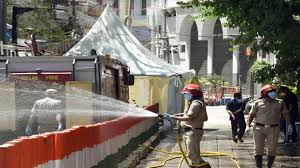mask: (183, 87, 201, 100), (263, 86, 275, 101), (235, 93, 243, 101)
